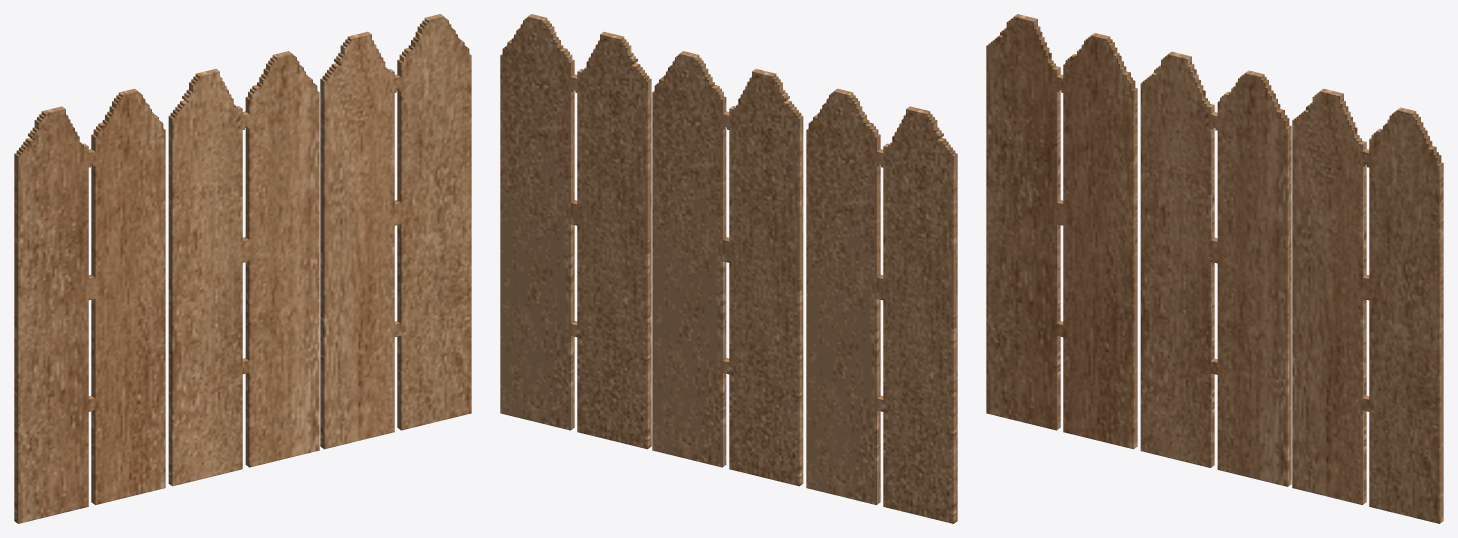
File: wood-2045379_640.fbx
3 renders of one model, left to right at view 1: azimuth 30°, elevation 25°; view 2: azimuth 150°, elevation 25°; view 3: azimuth 330°, elevation 25°, orthographic.
Visible parts, largest first — view 1: wood-2045379_640.001; view 2: wood-2045379_640.001; view 3: wood-2045379_640.001.
Boxes of the visible parts, <box> form: wood-2045379_640.001: <box>14,14,471,523</box>; wood-2045379_640.001: <box>500,14,957,523</box>; wood-2045379_640.001: <box>986,14,1443,523</box>.
Size of the model in its own units: 20 by 17 by 0.3.
Materials: 1 (1 with a texture image).
